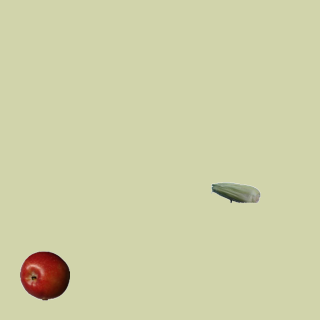Apple Braeburn: (19, 250, 69, 300)
Corn Husk: (210, 167, 260, 217)
